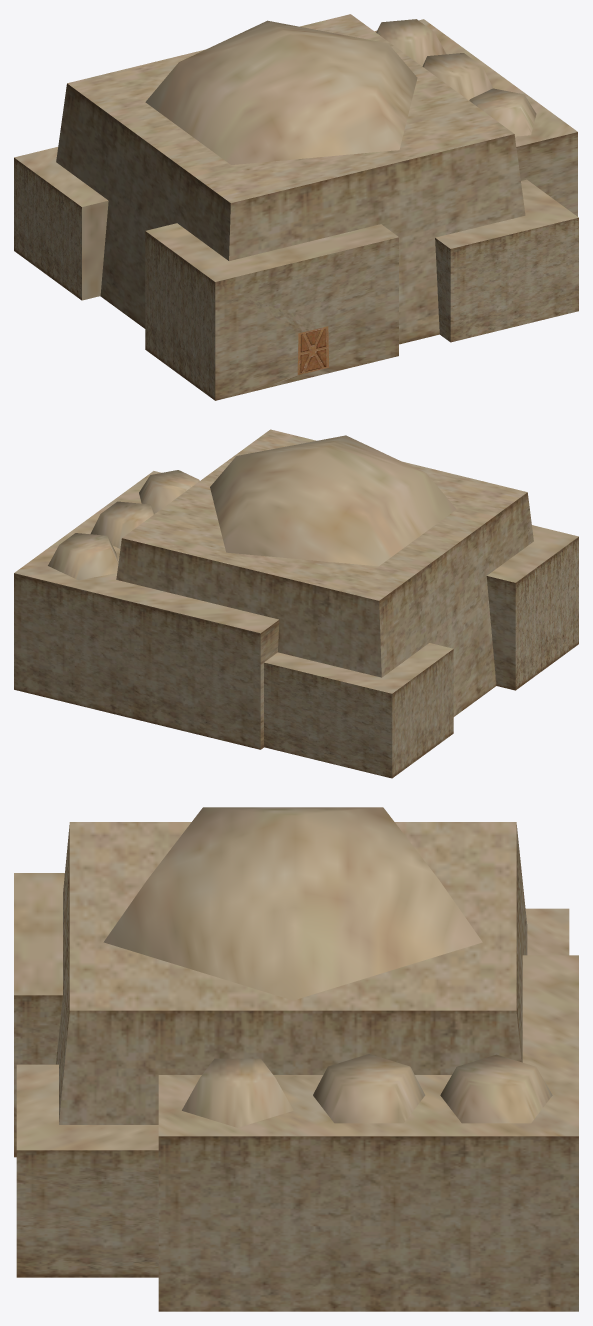
Rendered from thm_tato_imprv_building_s05_l3.fbx.
3 views of the same model, one above another, from view 1: azimuth 30°, elevation 25°; view 2: azimuth 150°, elevation 25°; view 3: azimuth 270°, elevation 25° (orthographic). The views are drawn at different scales.
Parts seen in each view (by area): view 1: mesh_node; view 2: mesh_node; view 3: mesh_node.
Boxes of the visible parts, x1,y1,x2,y2 form: mesh_node: (14,14,578,400); mesh_node: (14,429,578,778); mesh_node: (14,807,578,1311).
Size of the model in its own units: 28.18 by 16.02 by 24.31.
